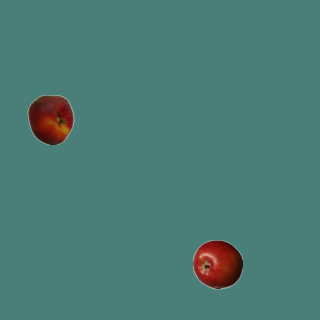Apple Braeburn: (192, 239, 242, 289)
Nectarine Flat: (25, 94, 75, 144)
